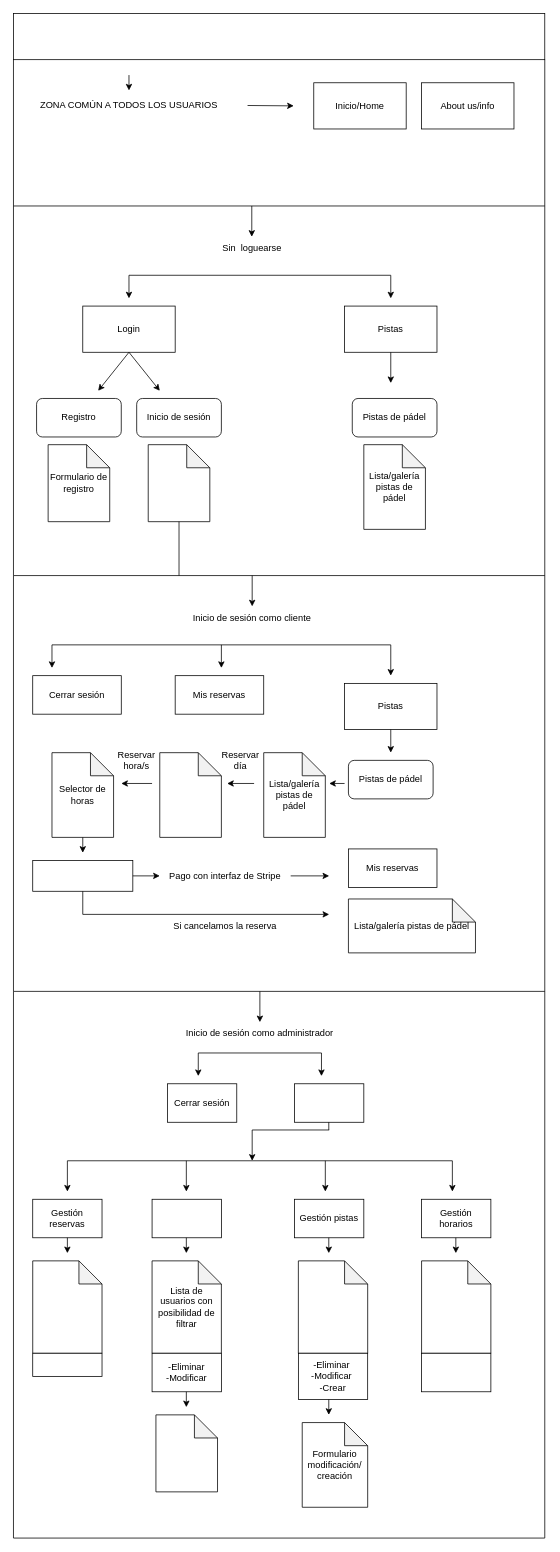
Image size: 560x1552. Some labels were removed from this diagram. Each missing label, with the centre of its shape:
"-Activar -Desactiva" goes at pixel 456 1372.
"-Eliminar reservas" goes at pixel 67 1364.
"Calendario con fecha disponibles" goes at pixel 190 794.
"Formulario de inicio de sesión" goes at pixel 178 483.
"Formulario modificación" goes at pixel 186 1453.
"Gestión" goes at pixel 329 1102.
"Gestión usuarios" goes at pixel 186 1218.
"Lista de todas las pistas de pádel" goes at pixel 333 1306.
"Lista de todas las reservas ordenadas por fecha" goes at pixel 67 1306.
"Lista de todos los horarios" goes at pixel 456 1306.
"MENÚ ADAPTABLE" goes at pixel 279 36.
"Resumen de reserva y acceso a pago" goes at pixel 82 875.
